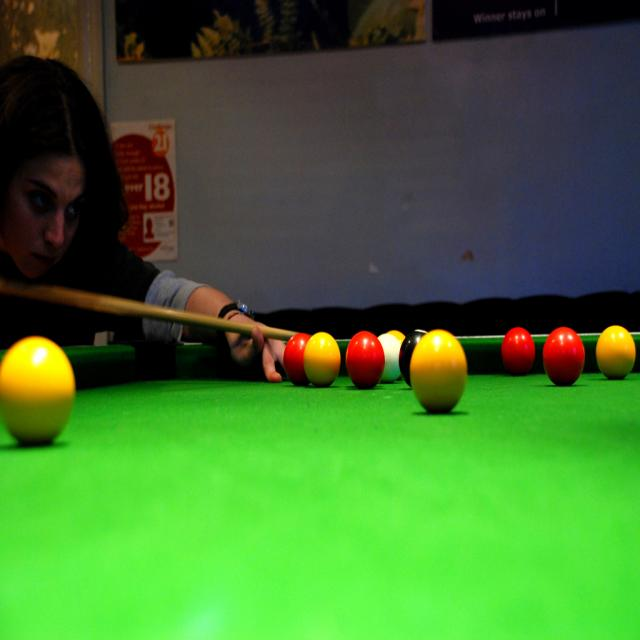Ball: (0, 337, 74, 445), (409, 330, 467, 412), (543, 328, 583, 388), (348, 331, 386, 387), (306, 334, 342, 384), (597, 328, 635, 374), (502, 329, 533, 375), (397, 330, 424, 381), (284, 334, 308, 384), (380, 332, 401, 384)
Billiard table: (0, 340, 639, 639)
